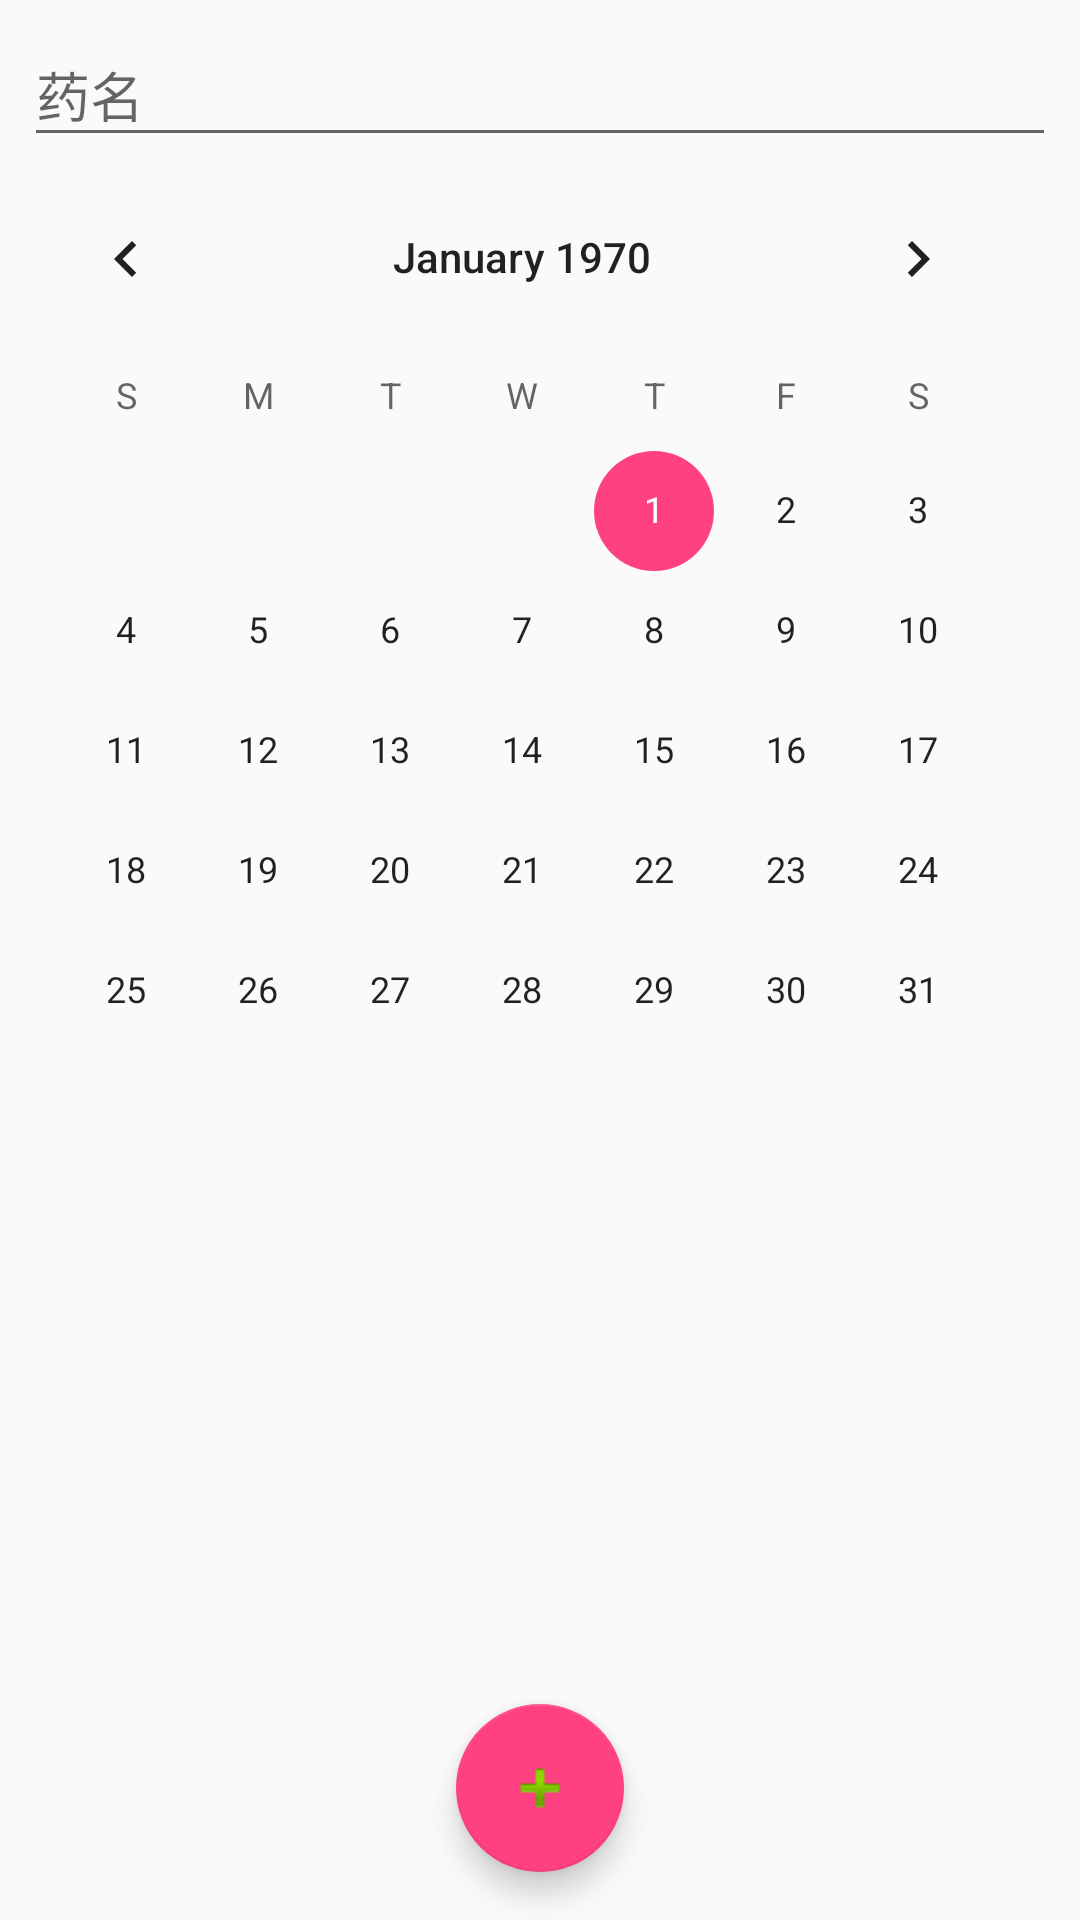

Icons on this 1080 × 1920 Android screen, each with the point to tap as point (x, y):
add: point (540, 1788)
